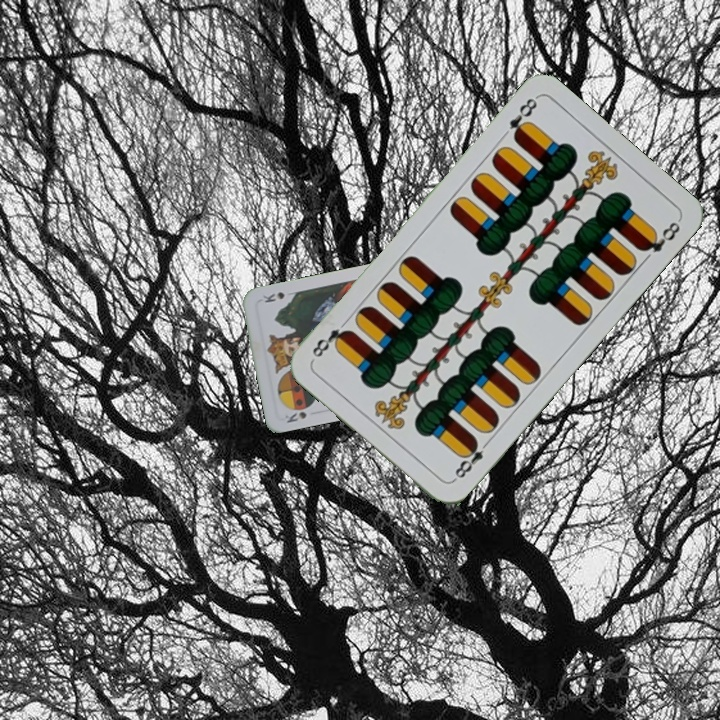E8: (449, 435, 493, 484), (505, 93, 540, 144)
SK: (281, 407, 309, 426)
